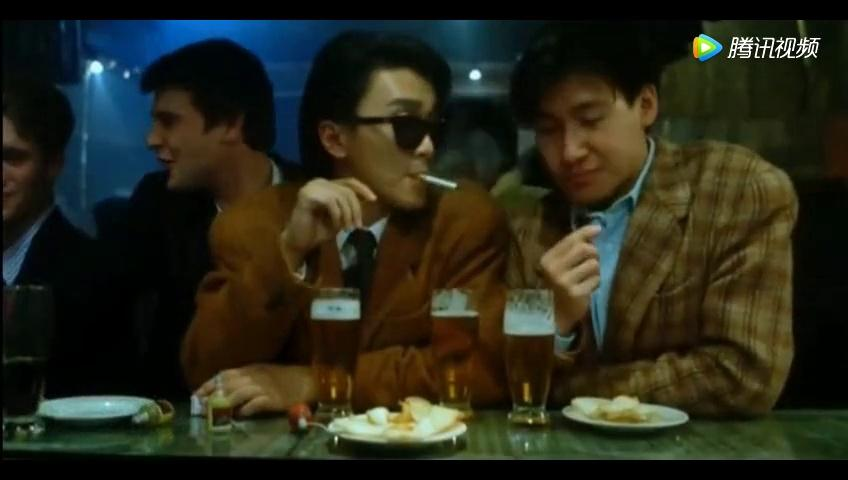smoke: (417, 172, 460, 192)
